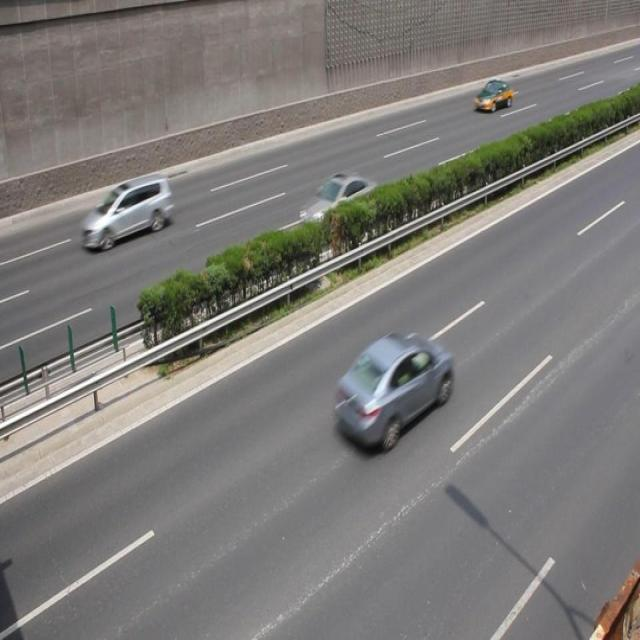car: (332, 333, 454, 450), (81, 175, 173, 248), (298, 170, 378, 240), (473, 79, 512, 114)
